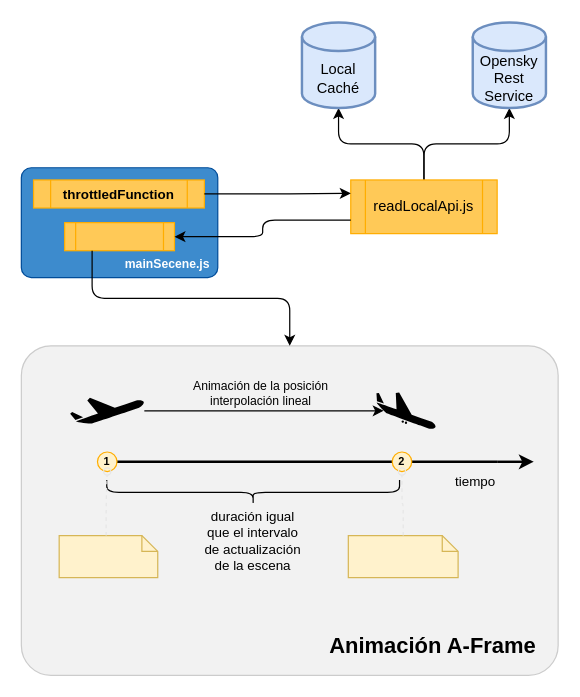
This 580x697 diagram has some shape labels left out. The box of each missing label's shape, as (x1, y1, x2, y2) in pixels:
cacheData.lastPosition: (58, 534, 158, 578)
cacheData.newPosition: (347, 534, 458, 578)
update(): (63, 221, 174, 251)
